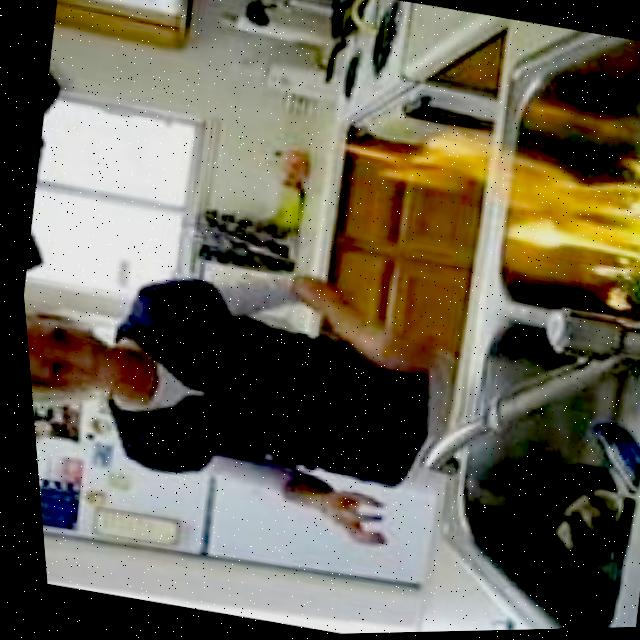Fire: (337, 105, 640, 302)
